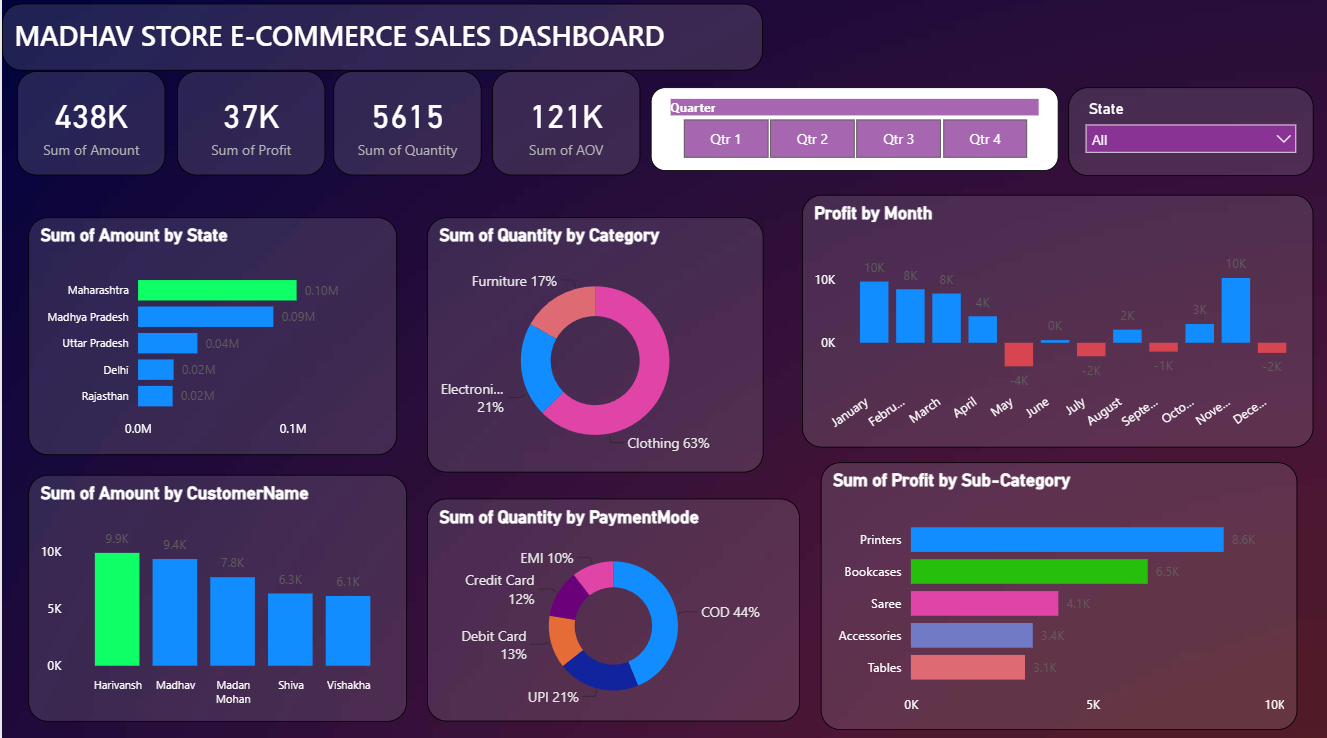

Layout of this report page (visuals, bound fields, positions):
{"tool":"powerbi","page":{"name":"Page 1","canvas":[1280,720],"ordinal":0},"visuals":[{"type":"textbox","box":[0,7.2,734.7,65.1],"z":0},{"type":"columnChart","title":"Profit by Month","fields":{"Category":["Orders.Order Date.Variation.Date Hierarchy.Month"],"Y":["Sum(Details.Profit)"]},"box":[772.2,191.8,493.8,244.3],"z":1000},{"type":"barChart","fields":{"Category":["Details.Sub-Category"],"Y":["Sum(Details.Profit)"]},"box":[790.2,450,466.9,259.4],"z":2000},{"type":"donutChart","fields":{"Category":["Details.Category"],"Y":["Sum(Details.Quantity)"]},"box":[410.2,182.2,343.8,267.8],"z":3000},{"type":"donutChart","fields":{"Category":["Details.PaymentMode"],"Y":["Sum(Details.Quantity)"]},"box":[410.2,462.1,359.5,238.9],"z":4000},{"type":"card","fields":{"Values":["Sum(Details.Amount)"]},"box":[14.4,72.2,143.3,101],"z":5000},{"type":"card","fields":{"Values":["Sum(Details.Profit)"]},"box":[169.1,72.2,143.3,101],"z":6000},{"type":"card","fields":{"Values":["Sum(Details.Quantity)"]},"box":[319.6,72.2,143.3,101],"z":7000},{"type":"card","fields":{"Values":["Sum(Details.AOV)"]},"box":[473.2,72.2,143.3,101],"z":8000},{"type":"barChart","fields":{"Category":["Orders.State"],"Y":["Sum(Details.Amount)"]},"box":[25.3,191.8,365.6,250.9],"z":9000},{"type":"columnChart","fields":{"Category":["Orders.CustomerName"],"Y":["Sum(Details.Amount)"]},"box":[25.8,461.9,366,238.1],"z":10000},{"type":"slicer","fields":{"Values":["Orders.Order Date.Variation.Date Hierarchy.Quarter"]},"box":[626.1,88.1,393.3,80.8],"z":11000},{"type":"slicer","fields":{"Values":["Orders.State"]},"box":[1028.9,87.6,237.1,85.6],"z":12000}]}

Visuals, with their boxes in screenshot pixels (x1, y1, x2, y2), scaled from the page's 1280x720 canvas onto the 1327x738 screenshot:
textbox: bbox=(0, 7, 762, 74)
"Profit by Month" columnChart: bbox=(801, 197, 1312, 447)
barChart - Details.Sub-Category x Sum(Details.Profit): bbox=(819, 461, 1303, 727)
donutChart - Details.Category x Sum(Details.Quantity): bbox=(425, 187, 782, 461)
donutChart - Details.PaymentMode x Sum(Details.Quantity): bbox=(425, 474, 798, 719)
card - Sum(Details.Amount): bbox=(15, 74, 163, 178)
card - Sum(Details.Profit): bbox=(175, 74, 324, 178)
card - Sum(Details.Quantity): bbox=(331, 74, 480, 178)
card - Sum(Details.AOV): bbox=(491, 74, 639, 178)
barChart - Orders.State x Sum(Details.Amount): bbox=(26, 197, 405, 454)
columnChart - Orders.CustomerName x Sum(Details.Amount): bbox=(27, 473, 406, 717)
slicer - Orders.Order Date.Variation.Date Hierarchy.Quarter: bbox=(649, 90, 1057, 173)
slicer - Orders.State: bbox=(1067, 90, 1312, 178)
